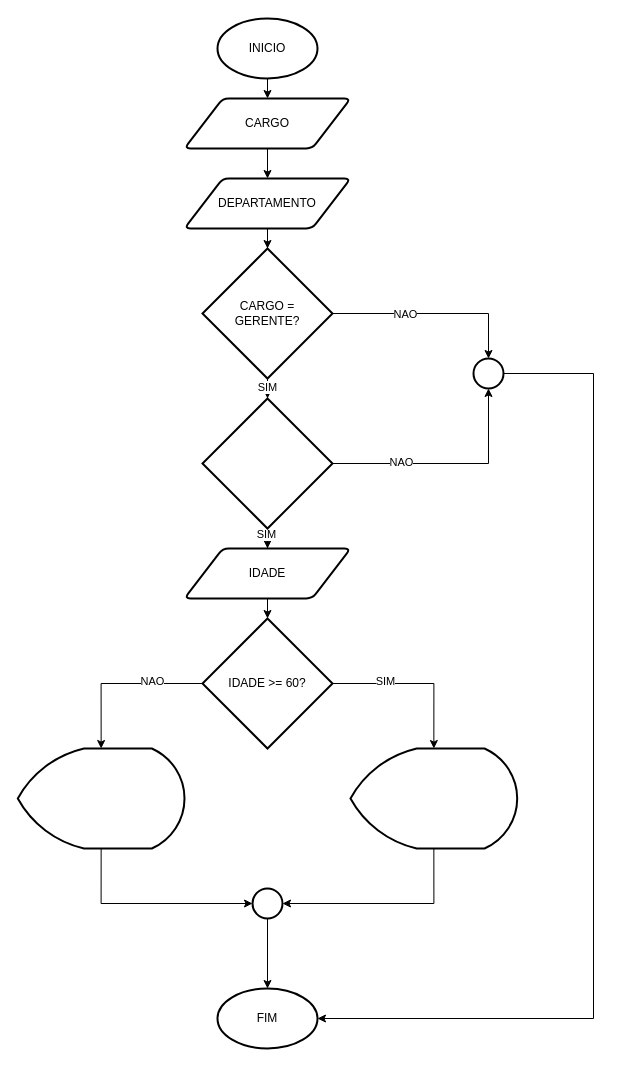
Some shapes in this 620 by 1066 pixel diagram are drawn without their labels. The centre of each missing label's shape, as x and y in pixels:
DEPTO = TIC?: (x=267, y=463)
VOCÊ IRÁ RECEBER UM BÔNUS: (x=100, y=798)
VOCÊ IRÁ RECEBER UM BÔNUS PLUS: (x=433, y=798)
